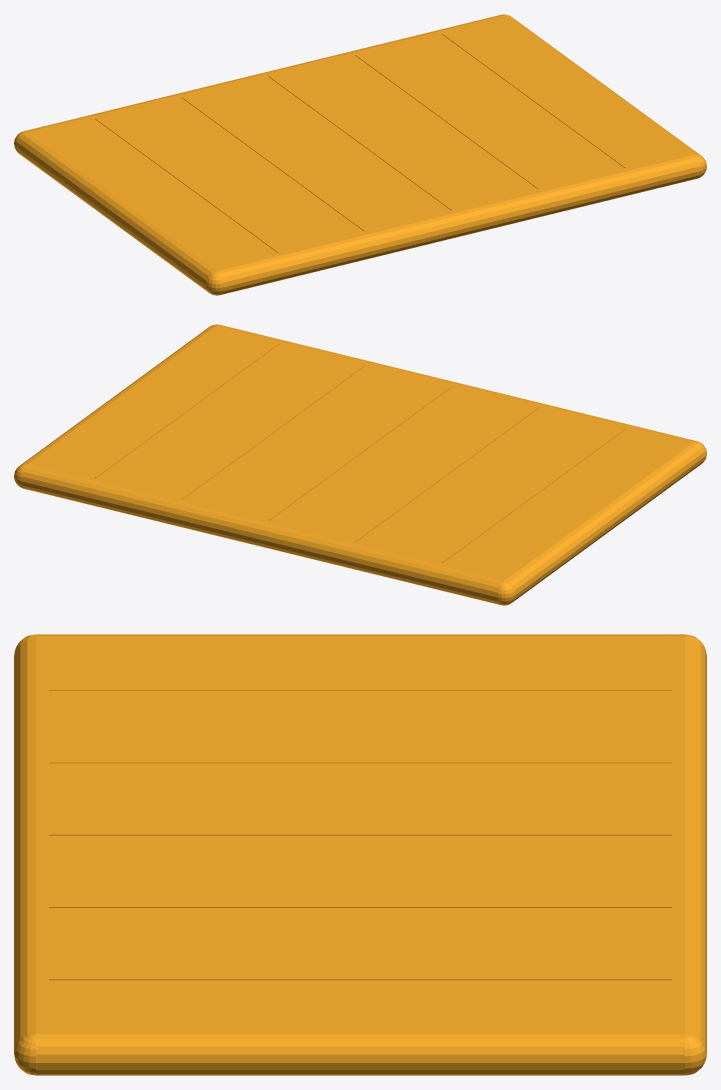
The model's file is villa-roof-east.glb.
The picture shows the model from 3 angles, top to bottom: view 1: azimuth 30°, elevation 25°; view 2: azimuth 150°, elevation 25°; view 3: azimuth 270°, elevation 25°; orthographic projection. The views are drawn at different scales.
Parts seen in each view (by area): view 1: villa-roof-east; view 2: villa-roof-east; view 3: villa-roof-east.
Boxes of the visible parts, x1=… form: villa-roof-east: x1=14, y1=14, x2=706, y2=295; villa-roof-east: x1=14, y1=324, x2=706, y2=605; villa-roof-east: x1=14, y1=634, x2=706, y2=1075.
Size of the model in its own units: 23.65 by 1.08 by 16.65.
